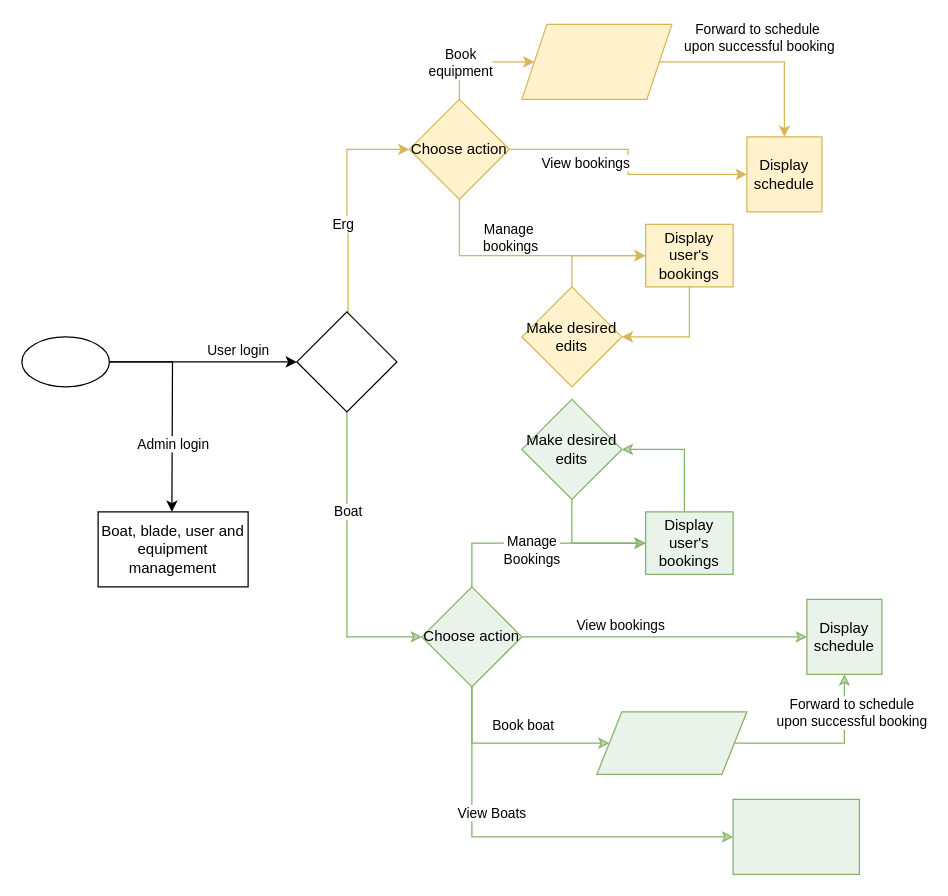
The diagram is 948 pixels wide and 896 high, and some of its shapes have lost their labels. Each missing label, with the box of its shape:
Date, time, boat, booking name: (596, 711, 747, 774)
Date, time, no. of ergs, booking name: (521, 23, 672, 99)
Display all boats and info: (732, 798, 859, 874)
Select type: (296, 311, 397, 412)
Visit page: (21, 336, 109, 387)
